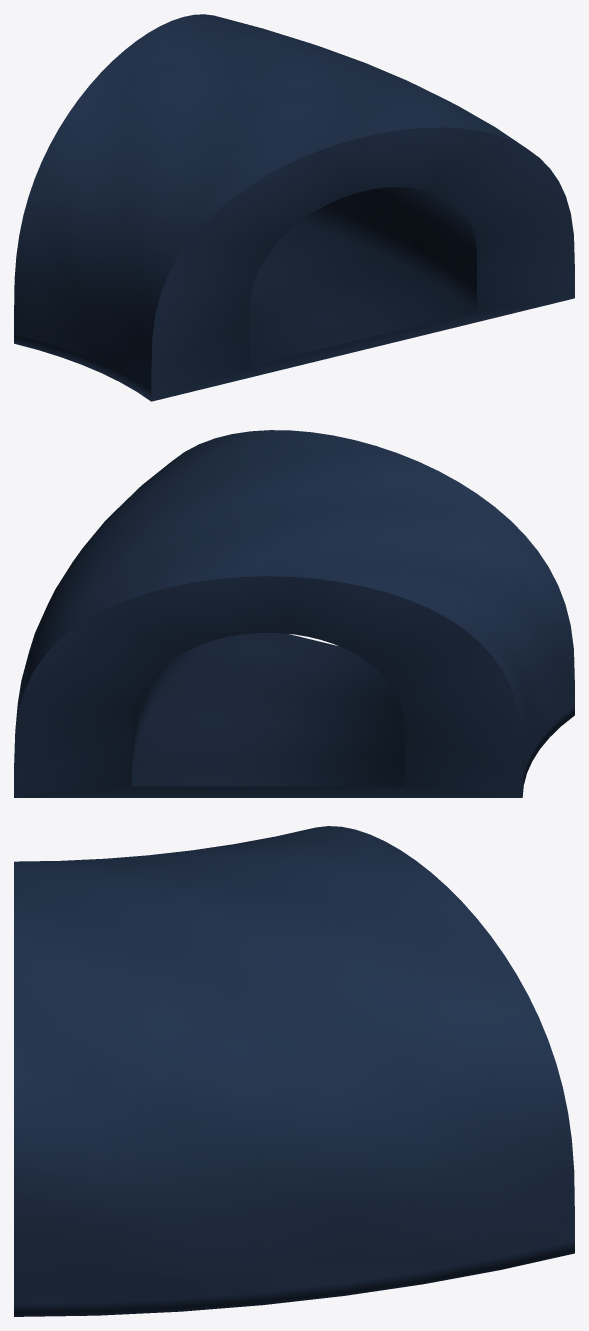
File: curve_left_30_terrain_lod1.glb
3 views of the same model, one above another, from view 1: azimuth 30°, elevation 25°; view 2: azimuth 150°, elevation 25°; view 3: azimuth 270°, elevation 25° (orthographic). The views are drawn at different scales.
Parts seen in each view (by area): view 1: TerrainRoof.007; view 2: TerrainRoof.007; view 3: TerrainRoof.007.
Boxes of the visible parts, <box> form: TerrainRoof.007: <box>14,14,574,401</box>; TerrainRoof.007: <box>14,430,574,797</box>; TerrainRoof.007: <box>14,826,574,1316</box>.
Size of the model in its own units: 31.32 by 13.65 by 25.1.
